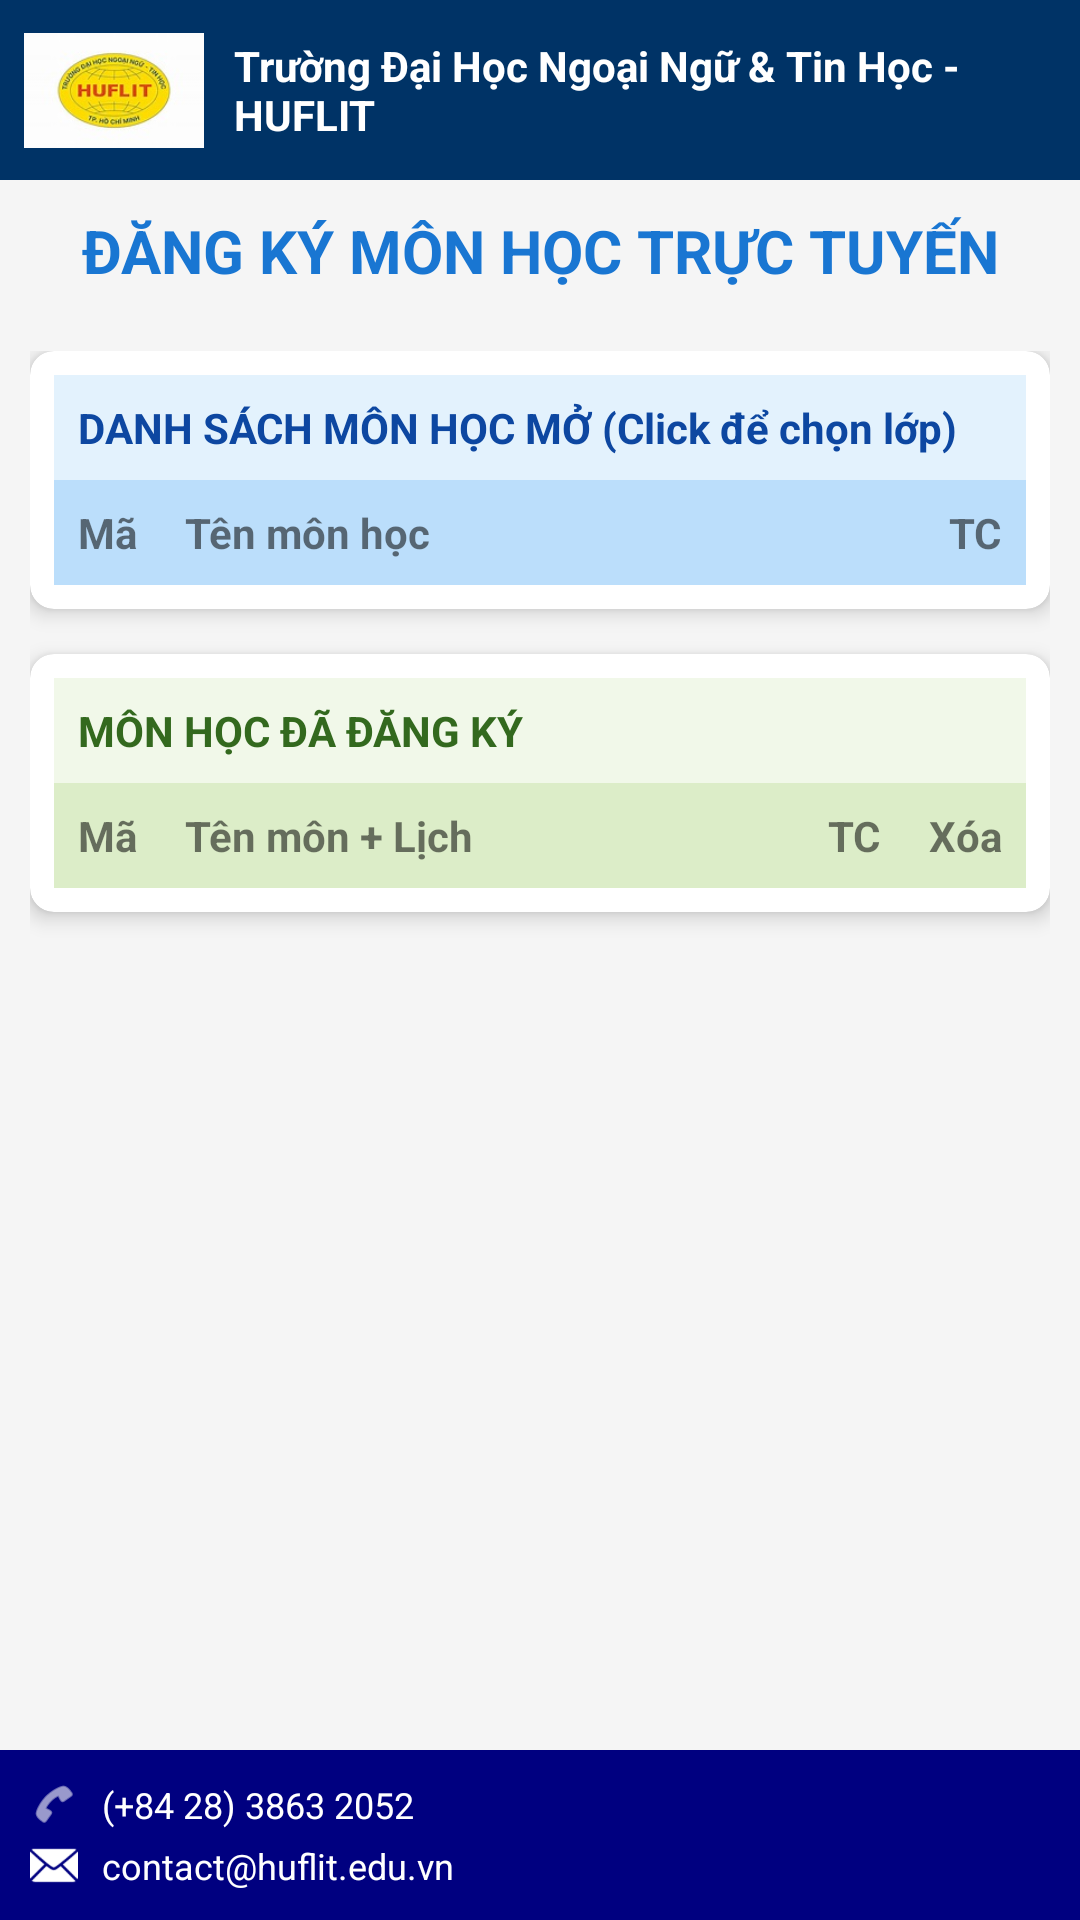

Where icons sit on this 1080px×1920px app screen, as (x1, y1, x2, y2):
call: (35, 1785, 73, 1823)
email: (30, 1848, 78, 1883)
